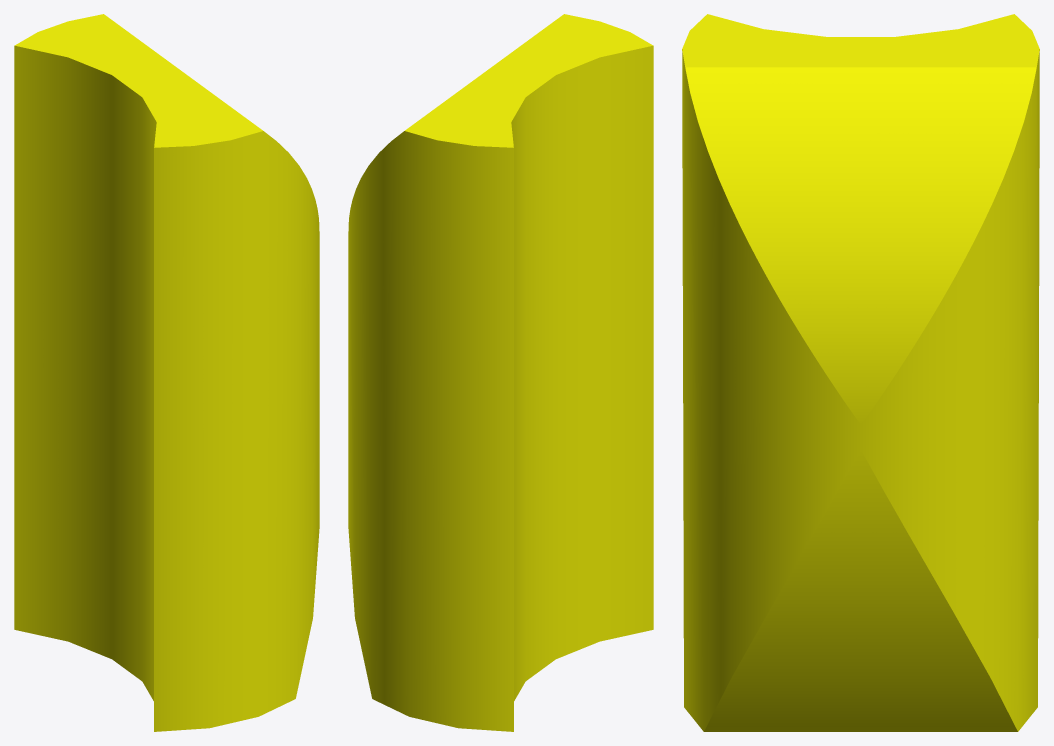
Rendered from tatu1chasis.obj.
3 renders of one model, left to right at view 1: azimuth 30°, elevation 25°; view 2: azimuth 150°, elevation 25°; view 3: azimuth 270°, elevation 25°, orthographic. The views are drawn at different scales.
Parts seen in each view (by area): view 1: 1; view 2: 1; view 3: 1.
Part boxes in pixels (<box>): 1: <box>14,14,319,731</box>; 1: <box>348,14,653,731</box>; 1: <box>682,14,1039,731</box>.
Bounding box in the file's own units: 363 × 950 × 479.
